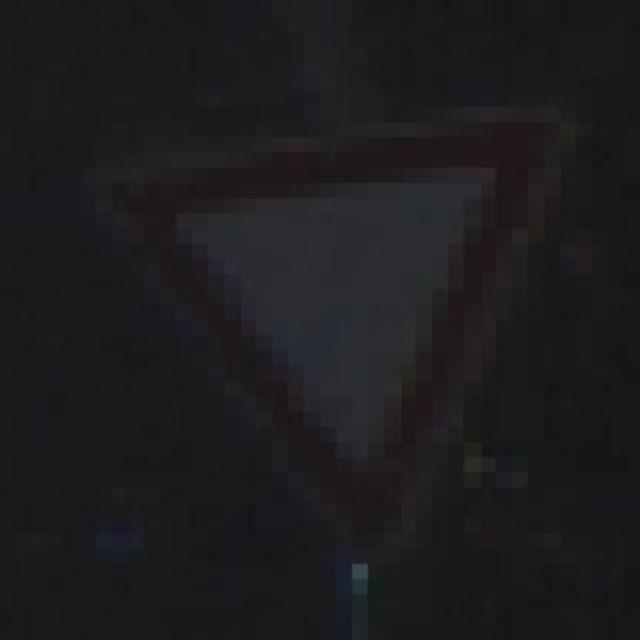Give Way: (96, 107, 609, 564)
